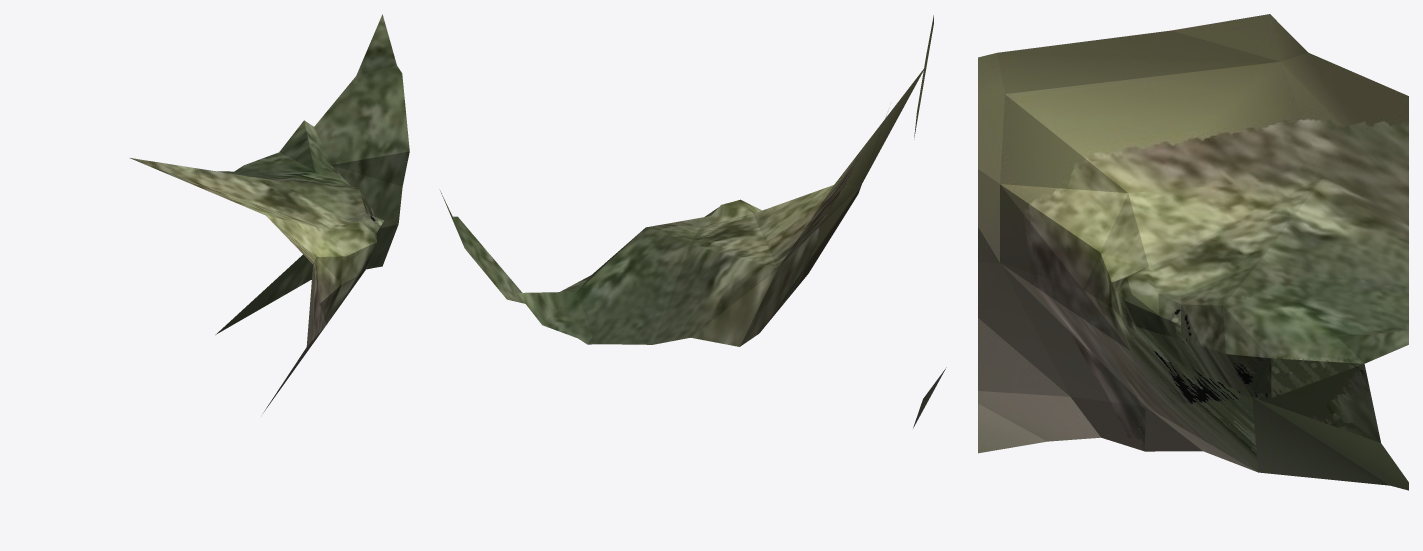
3 renders of one model, left to right at view 1: azimuth 30°, elevation 25°; view 2: azimuth 150°, elevation 25°; view 3: azimuth 270°, elevation 25°, orthographic.
Bounding box in the file's own units: 2.95 × 2.95 × 2.95.
4 materials, 4 textured.
